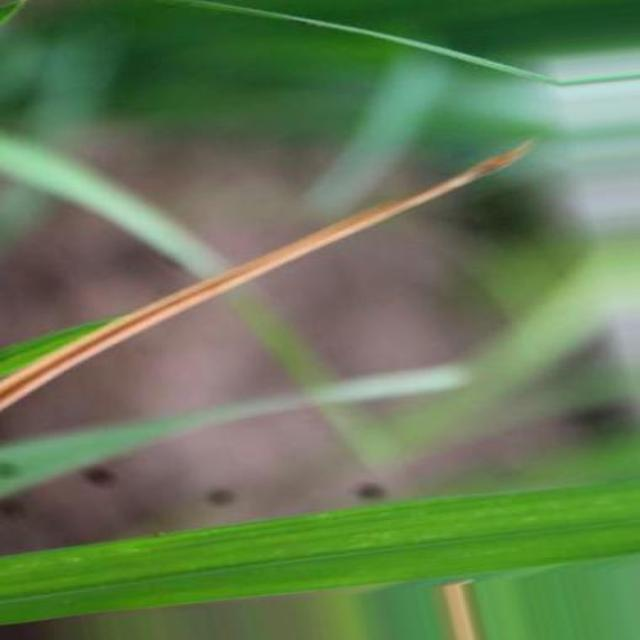Rice Tungro: (0, 141, 532, 408), (441, 582, 479, 639)
